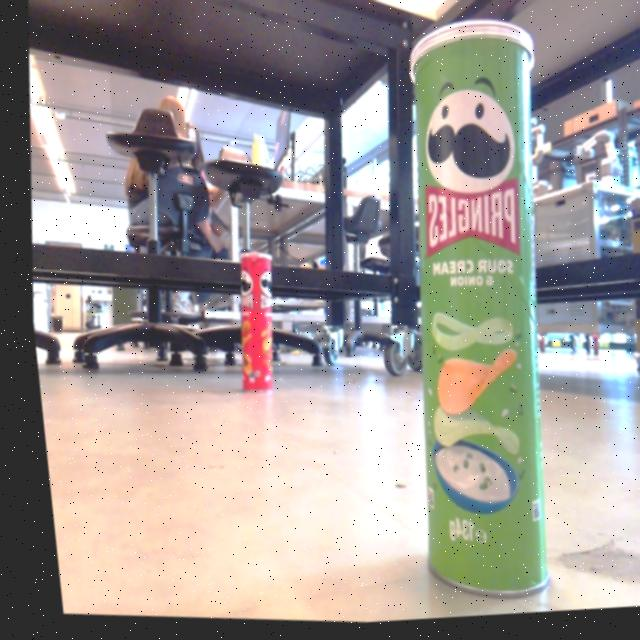greenpringles: (347, 8, 585, 624)
redpringles: (209, 242, 285, 409)
